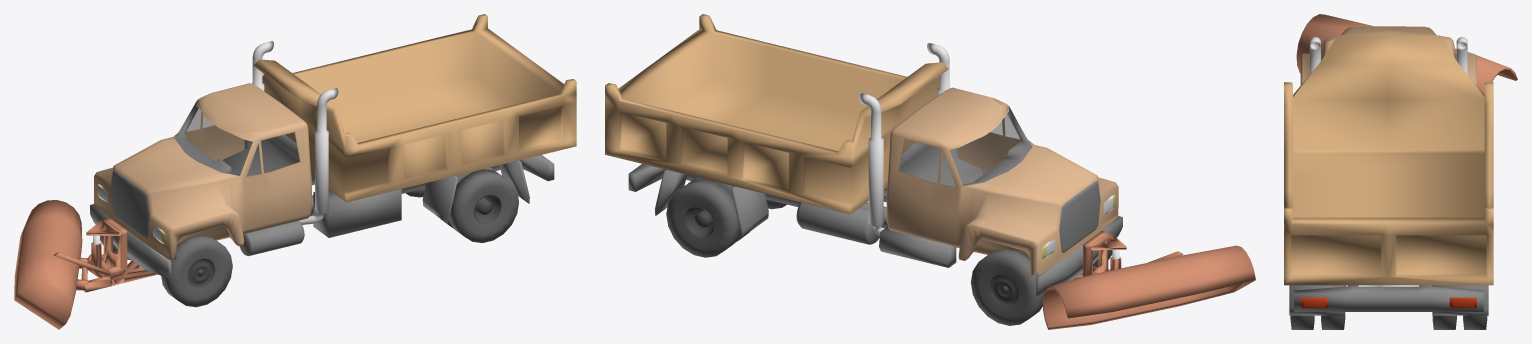
File: snowplow.fbx
3 renders of one model, left to right at view 1: azimuth 30°, elevation 25°; view 2: azimuth 150°, elevation 25°; view 3: azimuth 270°, elevation 25°, orthographic. The views are drawn at different scales.
Visible parts, largest first — view 1: Cube.013, Circle, Cube.017, rwheel.L, fwheel.L, Circle.003, Circle.002, Circle.006, Cube.011, Cube.012, Circle.005, Circle.004 (+6 smaller); view 2: Cube.013, Circle, Cube.017, rwheel.R, fwheel.R, Circle.003, Circle.006, Circle.001, Cube.012, Cube.014, Circle.005, Circle.002 (+6 smaller); view 3: Cube.013, Cube.001, Cube.017, Circle, Cube.012, rwheel.R, rwheel.L, rearlight, Cube.014, Cube.011.
Boxes of the visible parts, x1,y1,x2,y2 form: Cube.013: (253,14,576,202); Circle: (94,83,311,259); Cube.017: (14,200,157,329); rwheel.L: (441,167,518,242); fwheel.L: (161,234,232,307); Circle.003: (175,102,252,175); Circle.002: (313,189,401,237); Circle.006: (175,101,299,176); Cube.011: (299,88,338,224); Cube.012: (422,160,529,223); Circle.005: (110,171,149,238); Circle.004: (187,109,299,176); Cube.013: (605,14,948,214); Circle: (886,87,1118,275); Cube.017: (1042,231,1255,329); rwheel.R: (666,177,749,257); fwheel.R: (970,249,1043,325); Circle.003: (950,107,1031,185); Circle.006: (899,107,1032,186); Circle.001: (796,202,883,244); Cube.012: (654,170,768,237); Cube.014: (858,93,883,235); Circle.005: (1059,181,1100,252); Circle.002: (879,195,956,267); Cube.013: (1284,35,1493,285); Cube.001: (1294,285,1483,311); Cube.017: (1296,14,1517,94); Circle: (1300,26,1476,85); Cube.012: (1289,285,1488,315); rwheel.R: (1432,315,1487,329); rwheel.L: (1290,315,1345,329); rearlight: (1300,297,1476,308); Cube.014: (1456,37,1467,73); Cube.011: (1310,37,1320,74).
Bounding box in the file's own units: 8.77 × 2.78 × 2.88.
